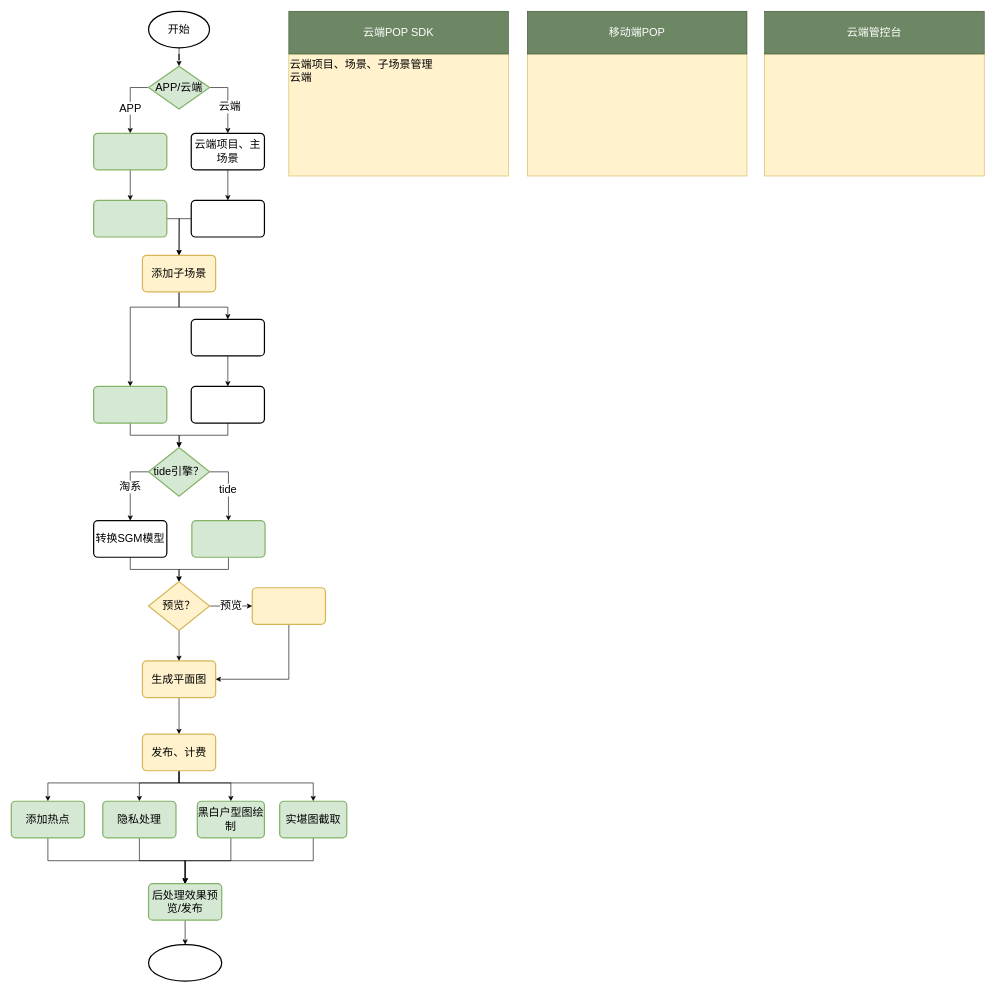
Image size: 995x992. Some labels were removed from this diagram. Here are the shapes that lost their labels. From the top down, the box of each, then its label:
(93, 132, 167, 170): 创建移动端项目
(93, 199, 167, 237): 打包（ZIP）上传
(190, 199, 265, 237): 上传单张全景图
(190, 318, 265, 356): 云端标注
(93, 386, 167, 423): 移动端重建
(190, 386, 265, 423): 云端端重建
(191, 520, 265, 558): 转换TIDE模型
(251, 587, 326, 625): 添加水印
(148, 944, 222, 981): 完成
